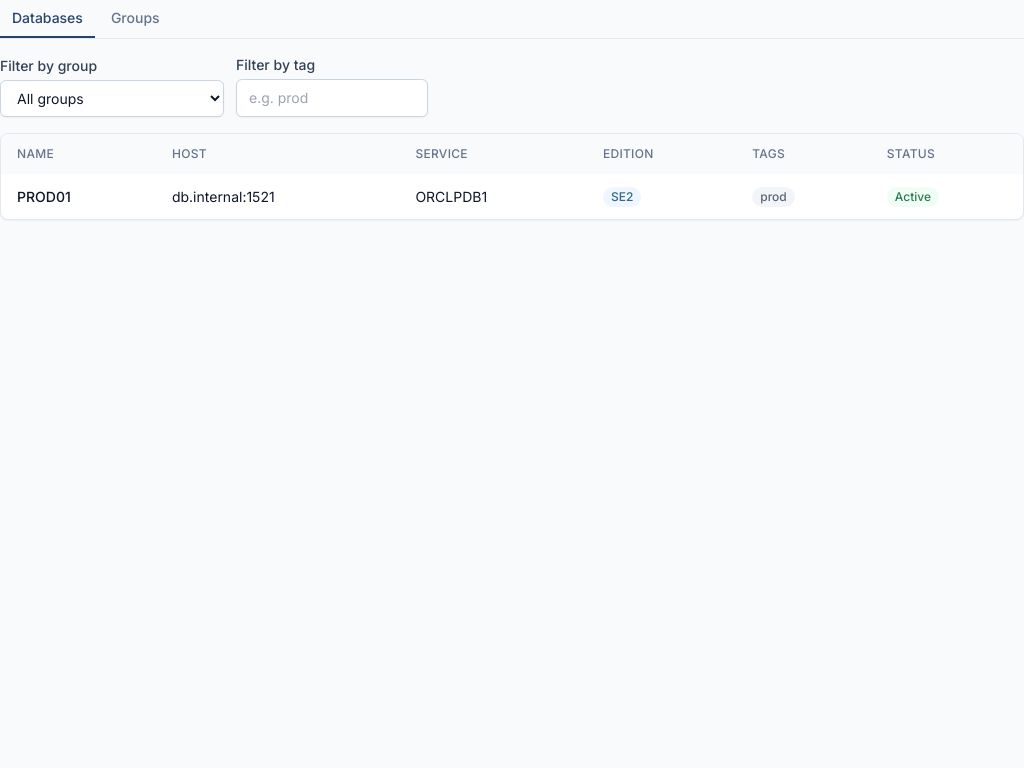
Test case: DatabasesPage › opens a database's detail drawer on row click and shows its details
Click the text "PROD01" at x=44, y=196, box [17, 188, 71, 204]
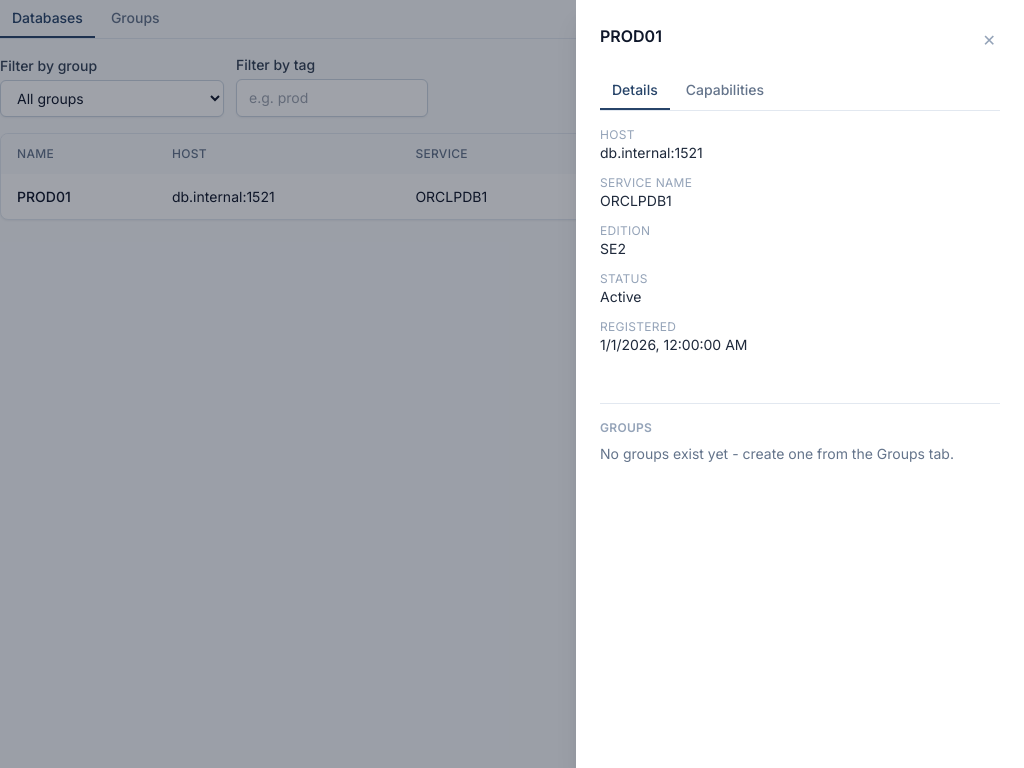
Expected: the text "db.internal:1521" is shown, [600, 144, 703, 161]
Expected: the text "ORCLPDB1" is shown, [600, 192, 672, 209]
